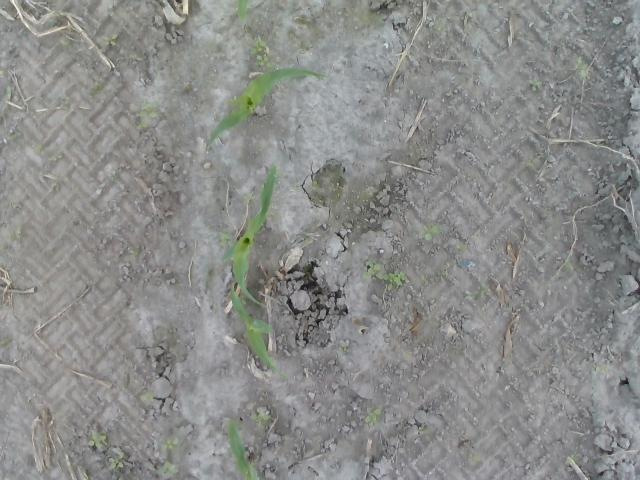Maize: (204, 62, 328, 148), (218, 162, 278, 310), (229, 284, 282, 377), (228, 421, 264, 480)
Weeds: (360, 260, 408, 289), (250, 34, 280, 70), (138, 103, 159, 128), (88, 430, 107, 450), (418, 224, 441, 240), (158, 460, 177, 478), (108, 453, 127, 470), (365, 408, 383, 424), (101, 32, 118, 48), (218, 230, 232, 249), (464, 288, 486, 300), (250, 413, 272, 425), (162, 438, 180, 450), (527, 78, 541, 92), (578, 64, 588, 80), (33, 144, 44, 156), (142, 394, 154, 401)
